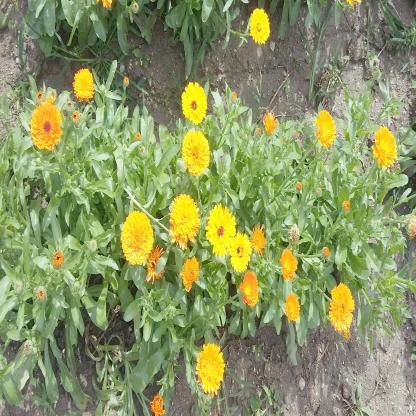marigold: (121, 210, 152, 266), (170, 192, 198, 245), (31, 102, 61, 150), (206, 204, 234, 255), (197, 343, 222, 395), (328, 282, 354, 332), (181, 128, 209, 172), (181, 82, 207, 123), (373, 128, 397, 166), (250, 7, 270, 45), (73, 68, 95, 102), (316, 110, 337, 145), (232, 233, 250, 272), (241, 273, 260, 304), (281, 248, 299, 276), (287, 295, 300, 321), (253, 226, 265, 249)
